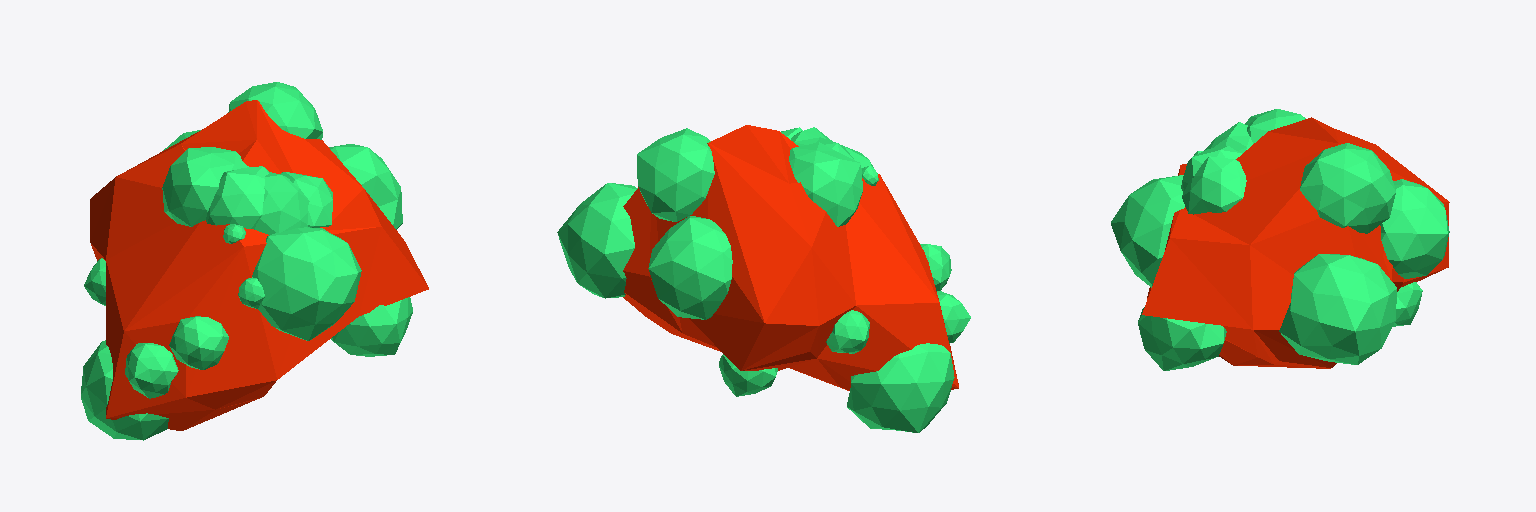
Rendered from Metal1.obj.
The picture shows the model from 3 angles: view 1: azimuth 30°, elevation 25°; view 2: azimuth 150°, elevation 25°; view 3: azimuth 270°, elevation 25°; orthographic projection.
Parts seen in each view (by area): view 1: Icosphere.002_Icosphere.003, Icosphere.001_Icosphere.004; view 2: Icosphere.002_Icosphere.003, Icosphere.001_Icosphere.004; view 3: Icosphere.001_Icosphere.004, Icosphere.002_Icosphere.003.
Boxes of the visible parts, box(x1,y1,x2,y2) form: Icosphere.002_Icosphere.003: box(90, 100, 428, 430); Icosphere.001_Icosphere.004: box(81, 82, 412, 440); Icosphere.002_Icosphere.003: box(623, 125, 958, 390); Icosphere.001_Icosphere.004: box(557, 127, 970, 432); Icosphere.001_Icosphere.004: box(1111, 109, 1449, 370); Icosphere.002_Icosphere.003: box(1142, 117, 1449, 368).
Bounding box in the file's own units: 1.65 × 1.29 × 1.4.